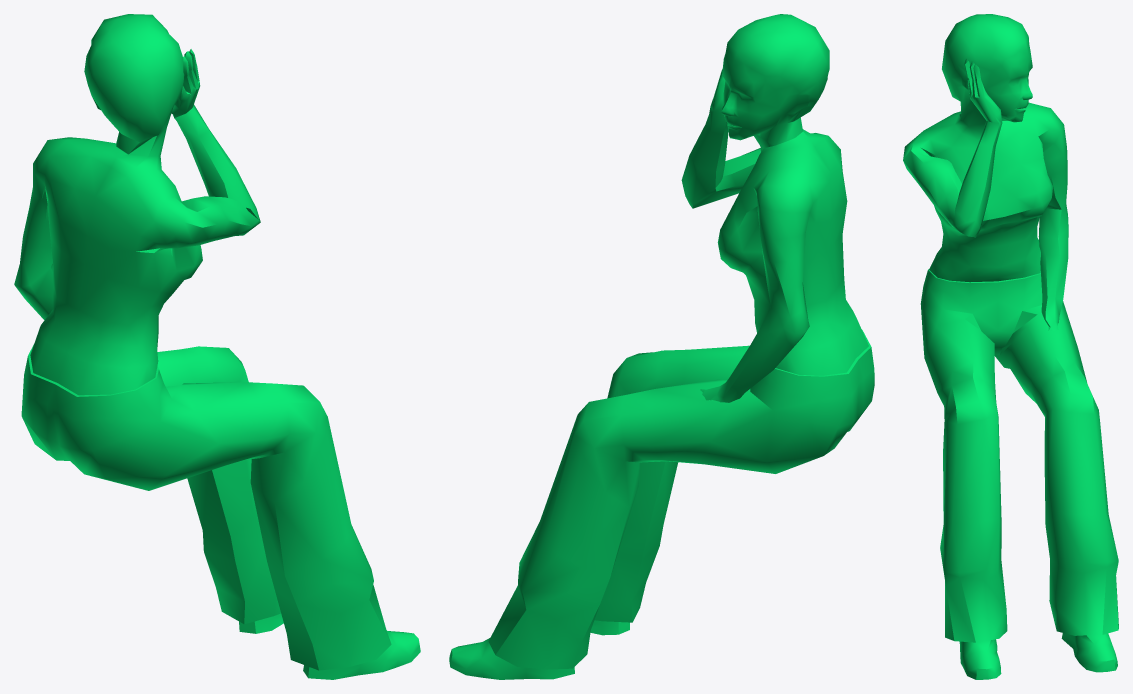
Rendered from SM_Woman_Pants_Sit03.glb.
The picture shows the model from 3 angles, left to right: view 1: azimuth 30°, elevation 25°; view 2: azimuth 150°, elevation 25°; view 3: azimuth 270°, elevation 25°; orthographic projection. The views are drawn at different scales.
Visible parts, largest first — view 1: SM_Woman_Pants_Sit03; view 2: SM_Woman_Pants_Sit03; view 3: SM_Woman_Pants_Sit03.
Boxes of the visible parts, x1=… form: SM_Woman_Pants_Sit03: x1=14, y1=14, x2=420, y2=679; SM_Woman_Pants_Sit03: x1=449, y1=14, x2=874, y2=679; SM_Woman_Pants_Sit03: x1=903, y1=14, x2=1118, y2=679.
Size of the model in its own units: 0.7857 by 1.4 by 0.4934.
